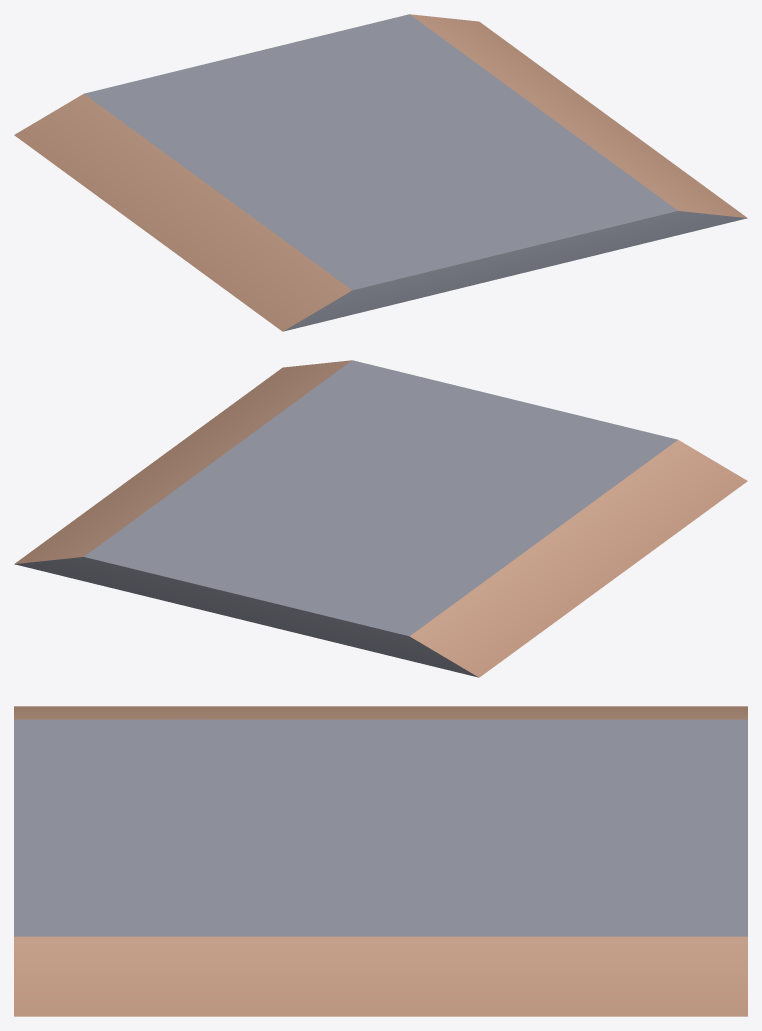
Rendered from path-short.glb.
3 renders of one model, top to bottom at view 1: azimuth 30°, elevation 25°; view 2: azimuth 150°, elevation 25°; view 3: azimuth 270°, elevation 25°, orthographic. The views are drawn at different scales.
Visible parts, largest first — view 1: path-short; view 2: path-short; view 3: path-short.
Boxes of the visible parts, left/top/right/bottom form: path-short: left=14, top=14, right=747, bottom=331; path-short: left=14, top=360, right=747, bottom=677; path-short: left=14, top=706, right=747, bottom=1016.
Bounding box in the file's own units: 0.2 × 0.01 × 0.2.
